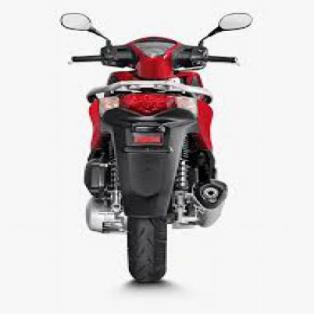Motocicleta: (49, 4, 260, 286)
